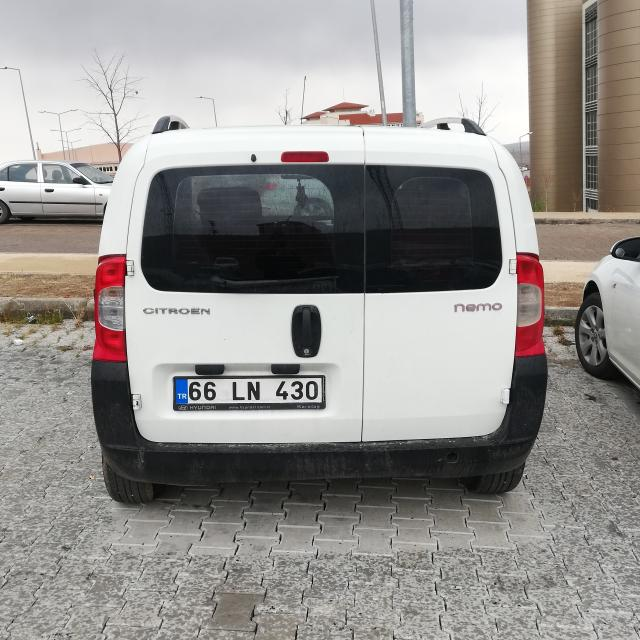license_plate: (175, 376, 325, 405)
